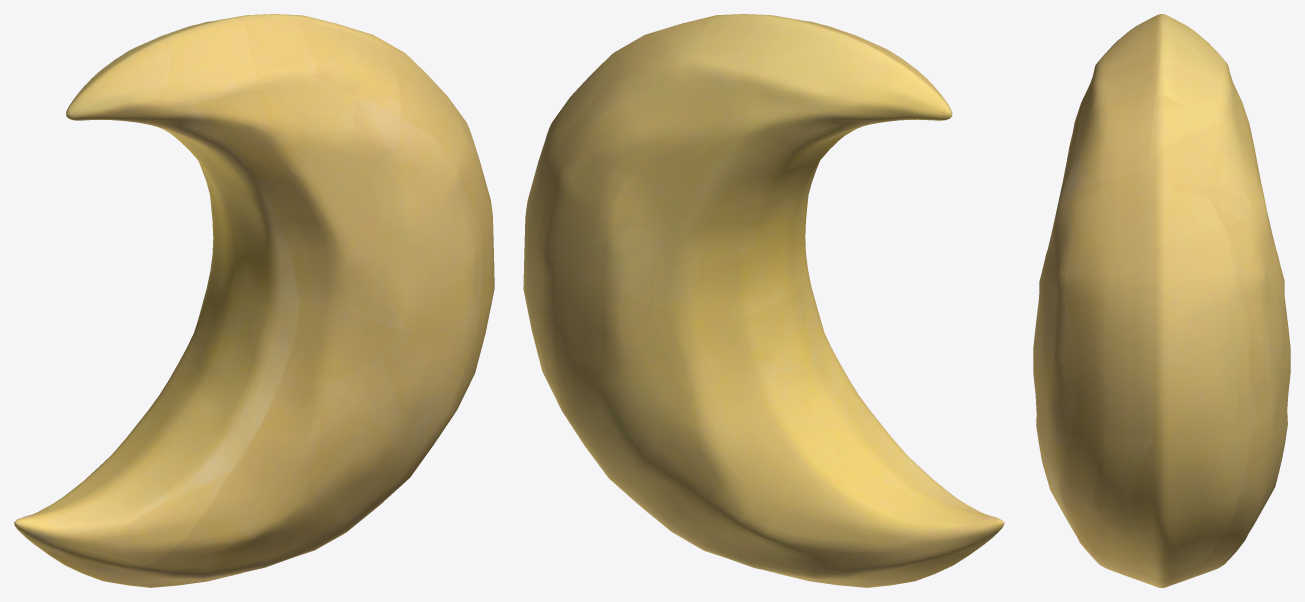
The model's file is moon-fantastic.glb.
3 renders of one model, left to right at view 1: azimuth 30°, elevation 25°; view 2: azimuth 150°, elevation 25°; view 3: azimuth 270°, elevation 25°, orthographic. The views are drawn at different scales.
Visible parts, largest first — view 1: Mesh0; view 2: Mesh0; view 3: Mesh0.
Part boxes in pixels (left/top/right/bottom): Mesh0: left=14, top=14, right=494, bottom=587; Mesh0: left=523, top=14, right=1004, bottom=587; Mesh0: left=1033, top=14, right=1290, bottom=587.
Bounding box in the file's own units: 1.69 × 1.91 × 0.8514.
Materials: 1 (1 with a texture image).
